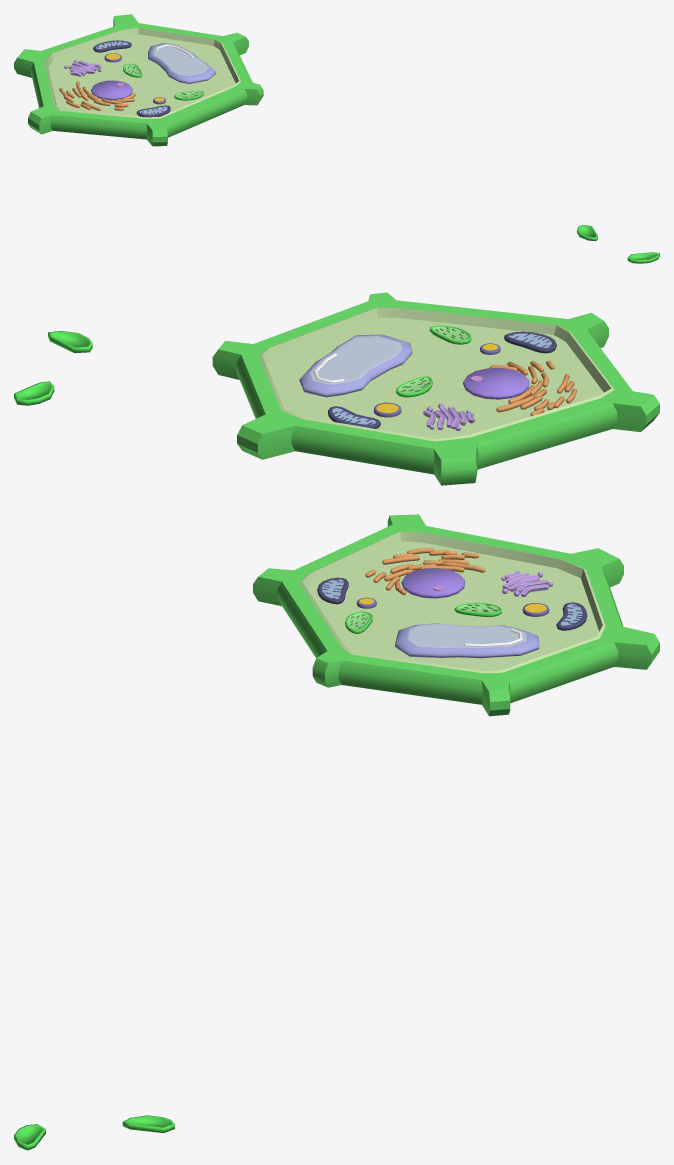
Rendered from PlantCell.glb.
The picture shows the model from 3 angles, top to bottom: view 1: azimuth 30°, elevation 25°; view 2: azimuth 150°, elevation 25°; view 3: azimuth 270°, elevation 25°; orthographic projection. The views are drawn at different scales.
Visible parts, largest first — view 1: Membrane, CellWall, Vacuole, RE, Nukleus, Cube.005; view 2: Membrane, CellWall, Vacuole, RE, Nukleus, Cube.005, Mitochondria.001, Golgi, Cube.001, Glioksisom, Chloroplast, Cube; view 3: Membrane, CellWall, Vacuole, RE, Nukleus, Cube.005.
Part boxes in pixels (bbox=[...]): Membrane: bbox=[44, 27, 240, 118]; CellWall: bbox=[14, 14, 263, 146]; Vacuole: bbox=[148, 43, 216, 83]; RE: bbox=[59, 81, 135, 110]; Nukleus: bbox=[91, 80, 132, 100]; Cube.005: bbox=[577, 225, 659, 263]; Membrane: bbox=[259, 307, 614, 441]; CellWall: bbox=[212, 292, 659, 485]; Vacuole: bbox=[299, 334, 412, 397]; RE: bbox=[489, 360, 576, 416]; Nukleus: bbox=[463, 368, 529, 399]; Cube.005: bbox=[14, 331, 92, 405]; Mitochondria.001: bbox=[504, 331, 556, 353]; Golgi: bbox=[423, 405, 474, 429]; Cube.001: bbox=[328, 406, 380, 428]; Glioksisom: bbox=[373, 343, 500, 417]; Chloroplast: bbox=[429, 325, 471, 344]; Cube: bbox=[396, 376, 432, 397]; Membrane: bbox=[299, 531, 605, 673]; CellWall: bbox=[253, 514, 659, 716]; Vacuole: bbox=[395, 623, 539, 658]; RE: bbox=[365, 548, 485, 594]; Nukleus: bbox=[401, 568, 464, 598]; Cube.005: bbox=[14, 1115, 174, 1150].
Bounding box in the file's own units: 31.47 × 10.38 × 22.9.
